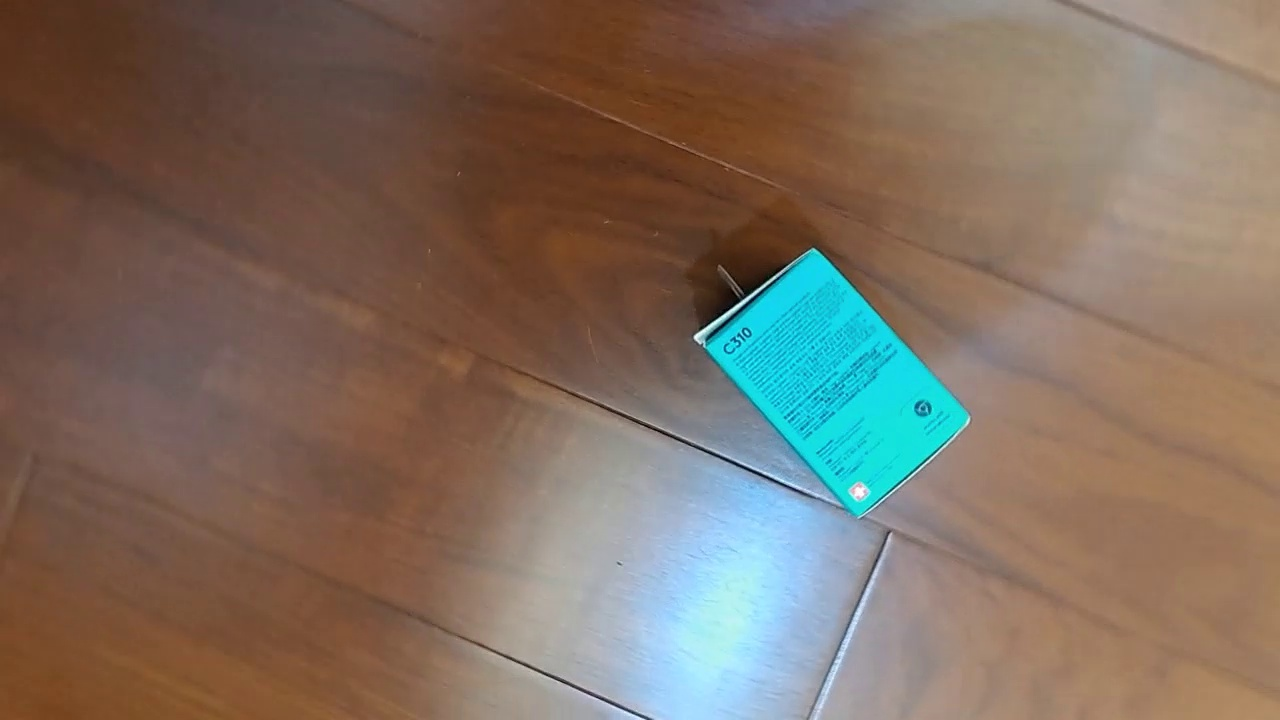webcam: (691, 246, 973, 520)
